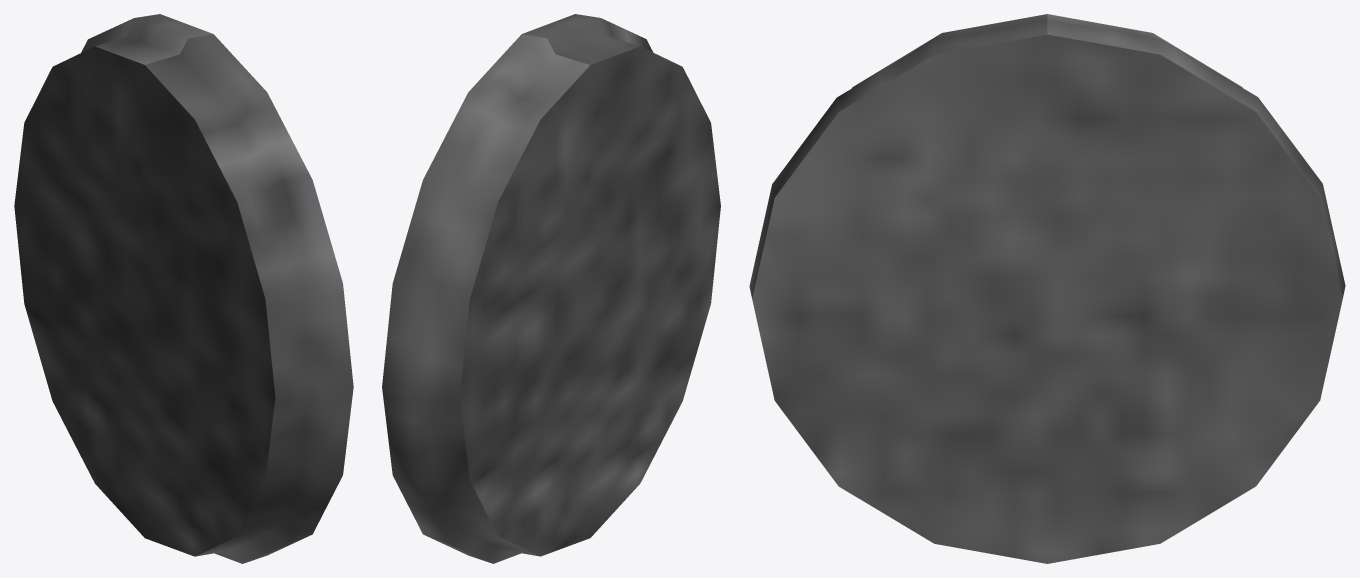
The model's file is RuedaDer5.obj.
3 views of the same model, side by side, from view 1: azimuth 30°, elevation 25°; view 2: azimuth 150°, elevation 25°; view 3: azimuth 270°, elevation 25° (orthographic). The views are drawn at different scales.
Parts seen in each view (by area): view 1: RuedaDer5; view 2: RuedaDer5; view 3: RuedaDer5.
Boxes of the visible parts, bbox=[...] form: RuedaDer5: bbox=[14, 14, 353, 563]; RuedaDer5: bbox=[382, 14, 720, 563]; RuedaDer5: bbox=[749, 14, 1345, 563].
Bounding box in the file's own units: 0.041 × 0.2641 × 0.2674.
1 material, 1 textured.
